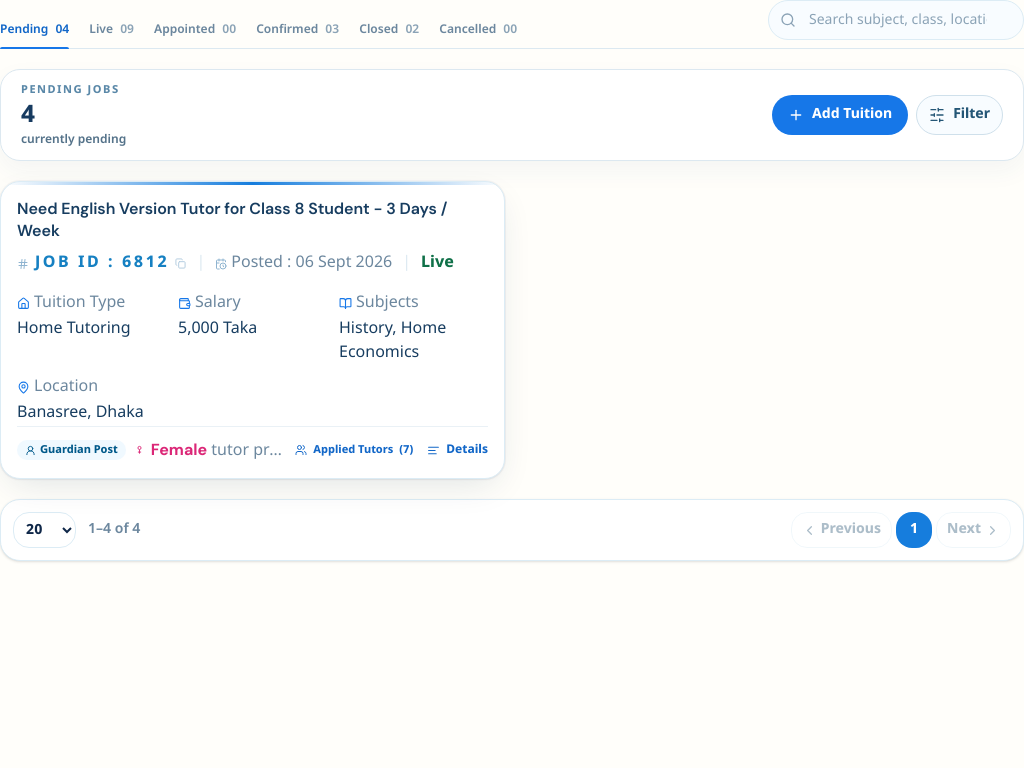
it: Admin Posted jobs board › drops Change Status once the tuition is past Pending
Click the button named "Job ID 6812" at (252, 330), box top-left (0, 181), bottom-right (505, 479)
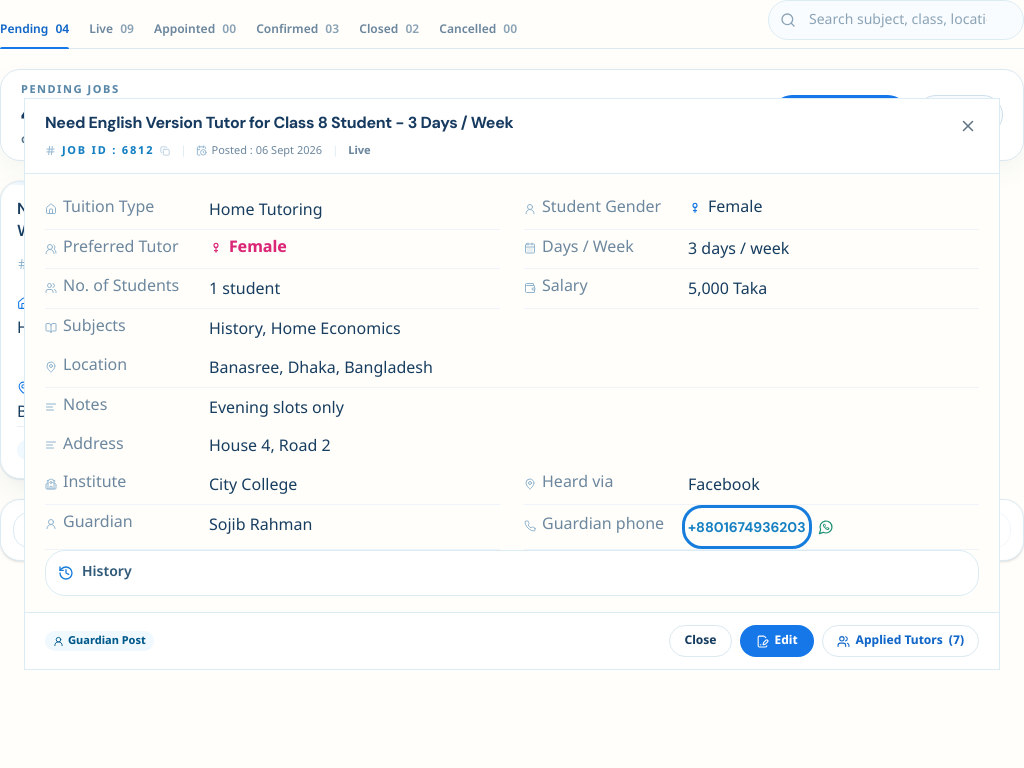
Expected: the button "Edit" is shown, top-left (740, 625), bottom-right (814, 657)
